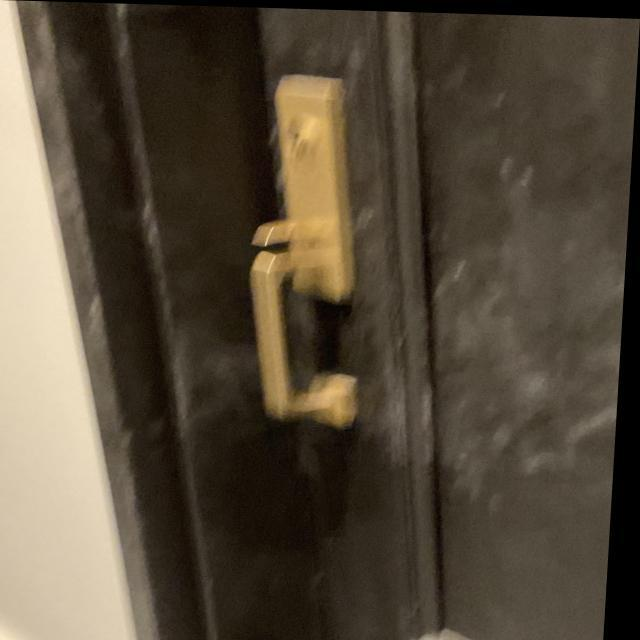door_handle: (230, 246, 382, 432)
